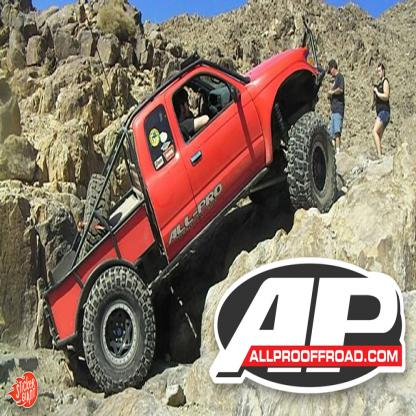Truck: (40, 18, 337, 397)
